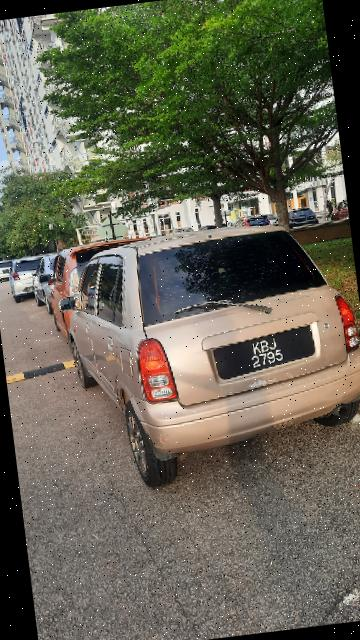License_Plate: (208, 319, 329, 387)
car: (43, 205, 360, 507)
